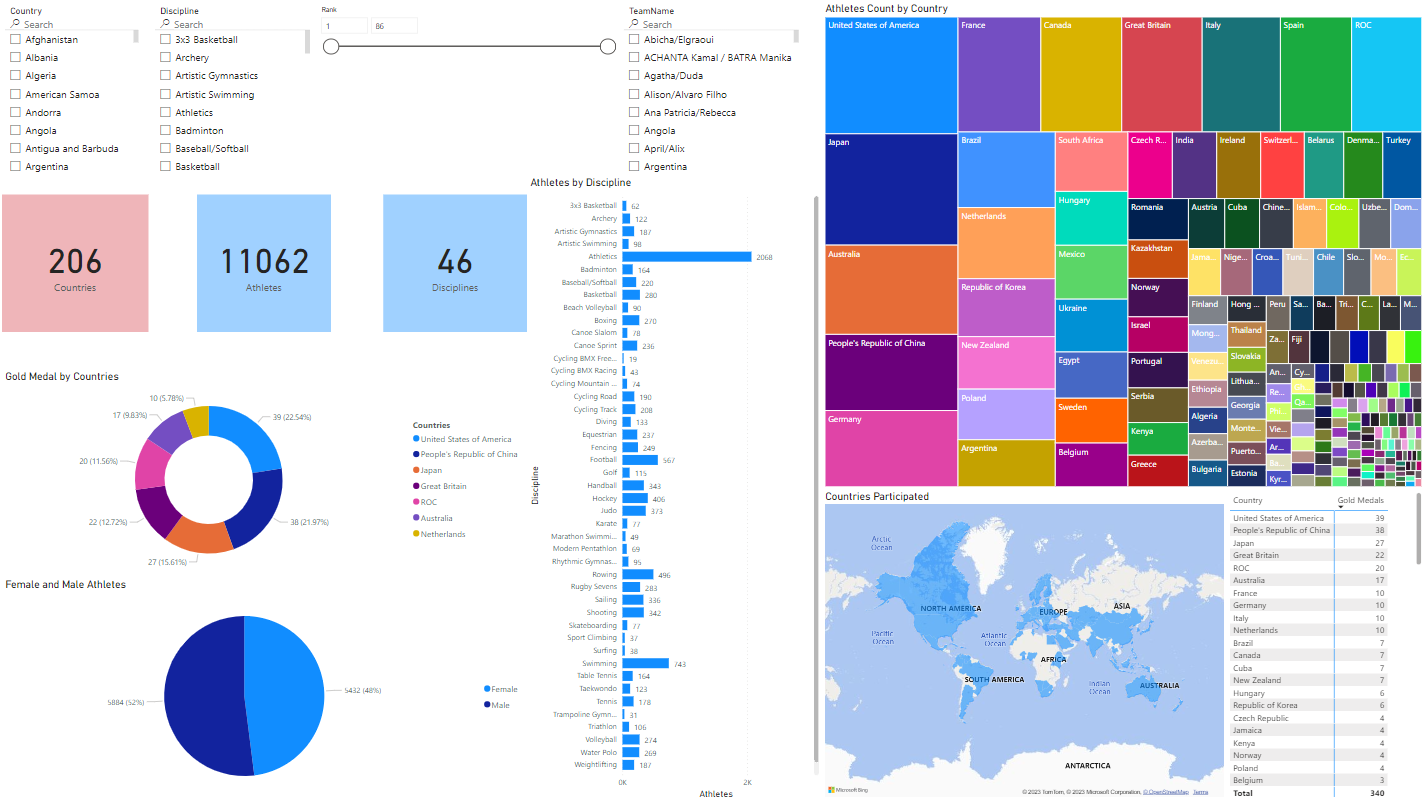

This screenshot's page, from the dashboard's own definition file:
{"tool":"powerbi","page":{"name":"Tokyo Olympic","canvas":[2275,1280],"ordinal":0},"visuals":[{"type":"treemap","fields":{"Group":["athletes.Country"],"Values":["CountNonNull(athletes.Country)"]},"box":[1312,0,964,780],"z":0},{"type":"slicer","fields":{"Values":["athletes.Country"]},"box":[0,0,223.5,276.8],"z":1000},{"type":"card","fields":{"Values":["Count(athletes.PersonName)"]},"box":[312,308,214,220],"z":2000},{"type":"card","fields":{"Values":["Count(athletes.Discipline)"]},"box":[610,308,230,220],"z":3000},{"type":"card","fields":{"Values":["Count(athletes.Country)"]},"box":[0,308,234,220],"z":4000},{"type":"filledMap","fields":{"Category":["medals.Team_Country"]},"box":[1312,780,648,500],"z":4001},{"type":"donutChart","fields":{"Y":["Sum(medals.Gold)"],"Category":["medals.Team_Country"]},"box":[0,588,840,334],"z":4002},{"type":"pivotTable","fields":{"Rows":["medals.Team_Country"],"Values":["Sum(medals.Gold)"]},"box":[1960,780,316,500],"z":4003},{"type":"barChart","fields":{"Category":["athletes.Discipline"],"Y":["CountNonNull(athletes.Discipline)"]},"box":[840,278,472,1002],"z":4004},{"type":"pieChart","title":"Female and Male Athletes","fields":{"Y":["Sum(gender.Female)","Sum(gender.Male)"]},"box":[0,922,840,358],"z":4005},{"type":"slicer","fields":{"Values":["athletes.Discipline"]},"box":[240,0,257.5,277.5],"z":4006},{"type":"slicer","fields":{"Values":["teams.TeamName"]},"box":[990,0,290,278],"z":4007},{"type":"slicer","fields":{"Values":["medals.Rank"]},"box":[497.5,0,492.5,111.2],"z":4008}]}

Visuals, with their boxes in screenshot pixels (x1, y1, x2, y2), scaled from the page's 2275x1280 canvas onto the 1423x797 screenshot:
treemap - athletes.Country x CountNonNull(athletes.Country): bbox(821, 0, 1422, 486)
slicer - athletes.Country: bbox(0, 0, 140, 172)
card - Count(athletes.PersonName): bbox(195, 192, 329, 329)
card - Count(athletes.Discipline): bbox(382, 192, 525, 329)
card - Count(athletes.Country): bbox(0, 192, 146, 329)
filledMap - medals.Team_Country: bbox(821, 486, 1226, 796)
donutChart - Sum(medals.Gold) x medals.Team_Country: bbox(0, 366, 525, 574)
pivotTable - medals.Team_Country x Sum(medals.Gold): bbox(1226, 486, 1422, 796)
barChart - athletes.Discipline x CountNonNull(athletes.Discipline): bbox(525, 173, 821, 796)
"Female and Male Athletes" pieChart: bbox(0, 574, 525, 796)
slicer - athletes.Discipline: bbox(150, 0, 311, 173)
slicer - teams.TeamName: bbox(619, 0, 801, 173)
slicer - medals.Rank: bbox(311, 0, 619, 69)
